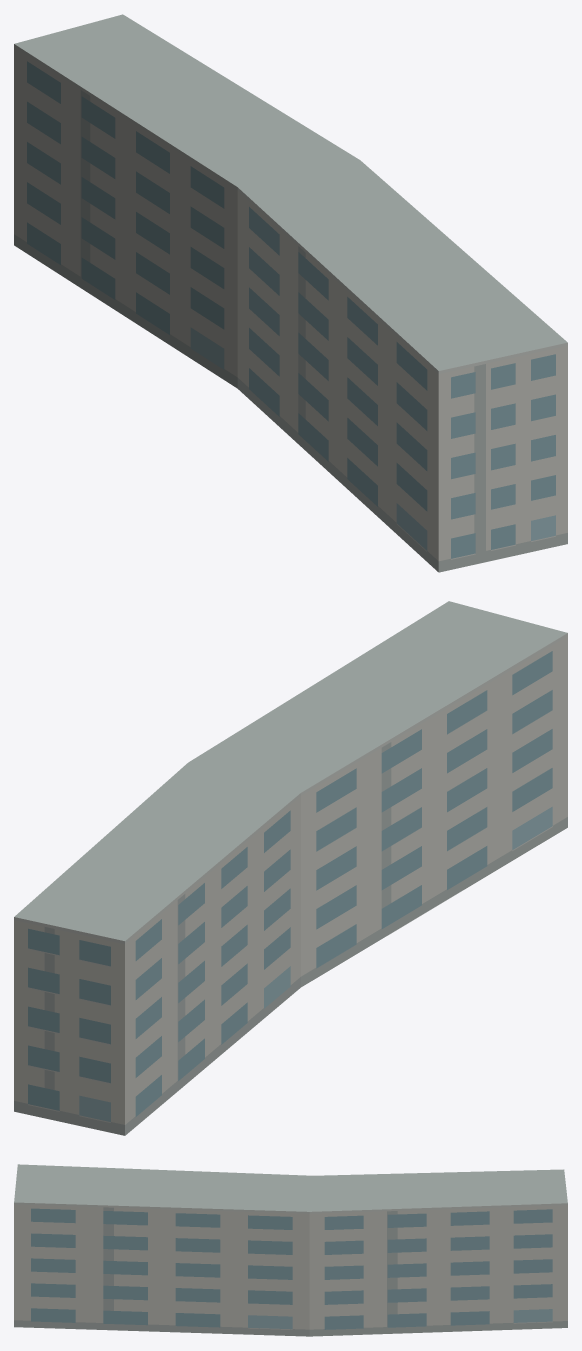
The model's file is residential-4b0f7cb4-e50a-44a1-81e7-8cfd902f1a96.glb.
3 renders of one model, top to bottom at view 1: azimuth 30°, elevation 25°; view 2: azimuth 150°, elevation 25°; view 3: azimuth 270°, elevation 25°, orthographic. The views are drawn at different scales.
Visible parts, largest first — view 1: residential-4b0f7cb4-e50a-44a1-81e7-8cfd902f1a96.tmp; view 2: residential-4b0f7cb4-e50a-44a1-81e7-8cfd902f1a96.tmp; view 3: residential-4b0f7cb4-e50a-44a1-81e7-8cfd902f1a96.tmp.
Part boxes in pixels (bbox=[...]): residential-4b0f7cb4-e50a-44a1-81e7-8cfd902f1a96.tmp: bbox=[14, 14, 567, 572]; residential-4b0f7cb4-e50a-44a1-81e7-8cfd902f1a96.tmp: bbox=[14, 601, 567, 1135]; residential-4b0f7cb4-e50a-44a1-81e7-8cfd902f1a96.tmp: bbox=[14, 1164, 567, 1336].
Bounding box in the file's own units: 12.47 × 15.25 × 61.42.
